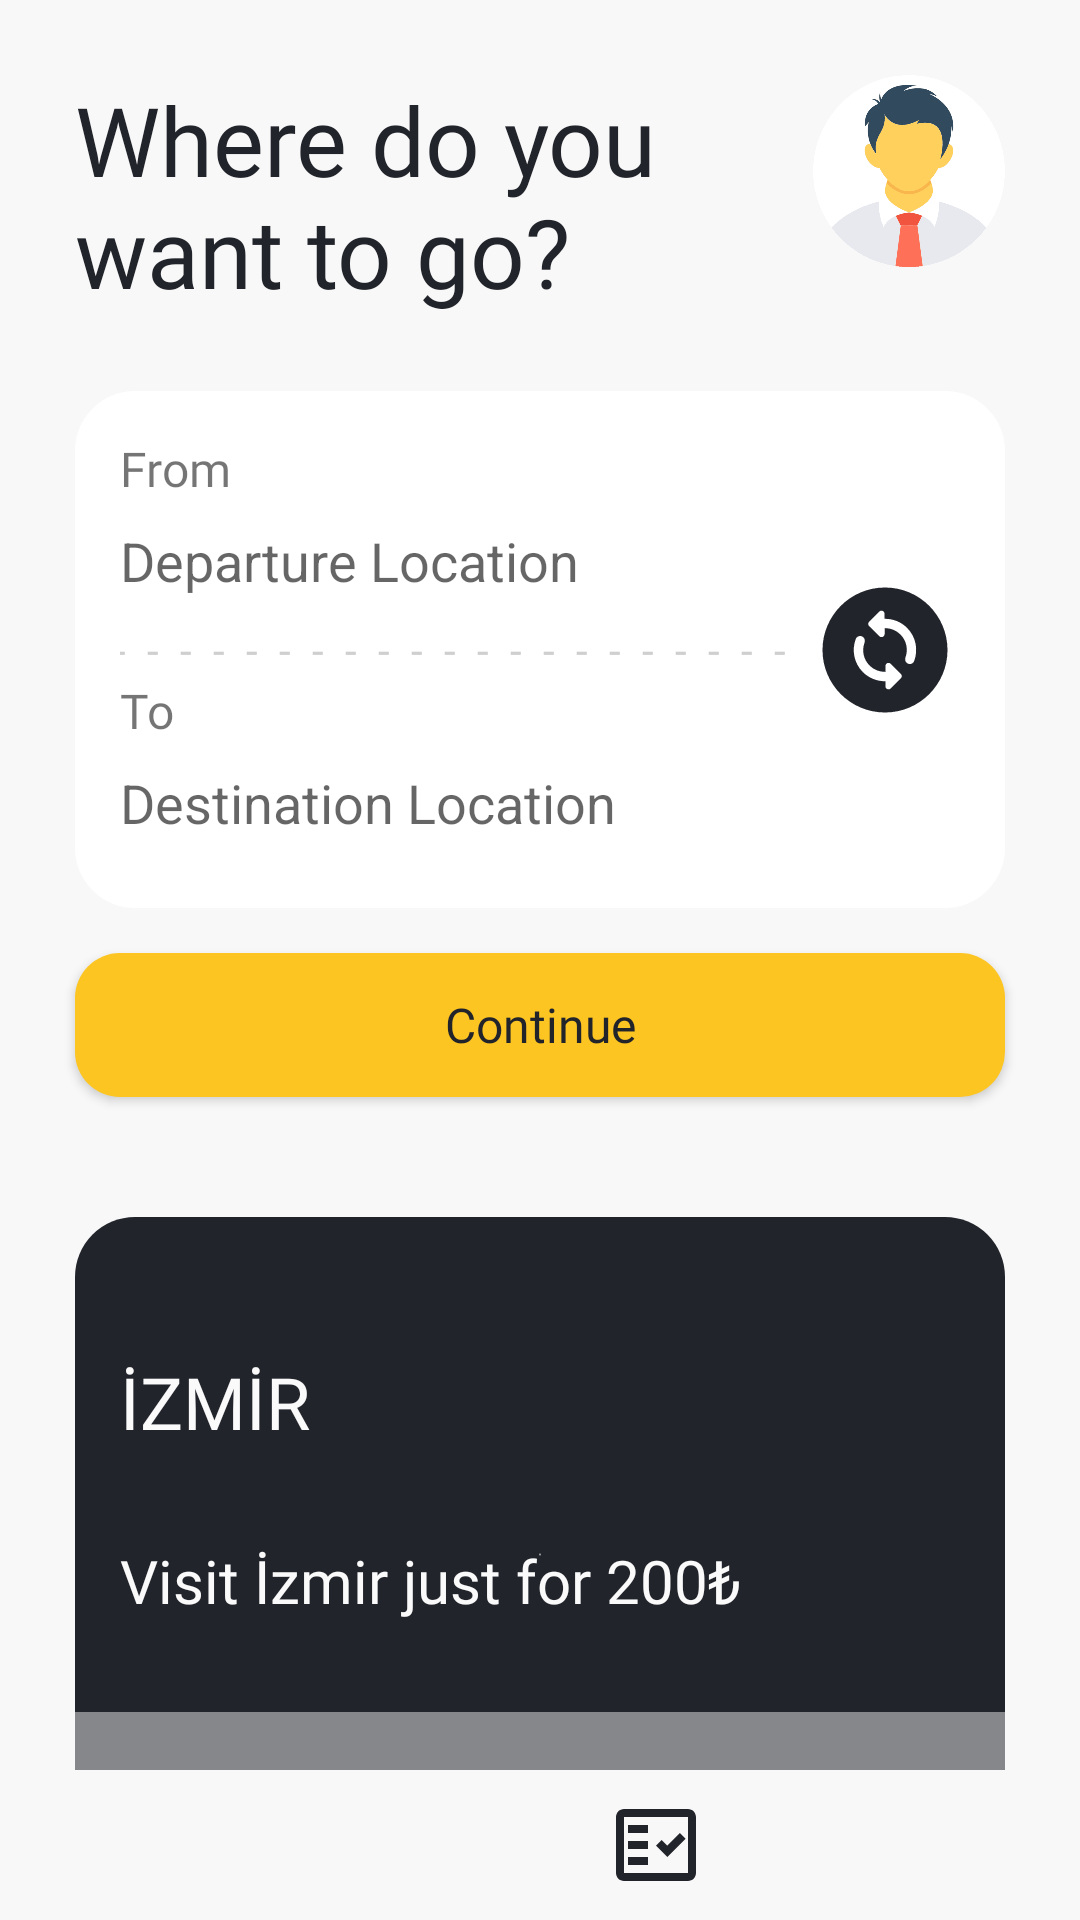

Screen size 1080*1920. Icon name, then its box in pixels as box=[x1, y1, x2, y2]:
Change sides: box=[822, 587, 948, 713]
